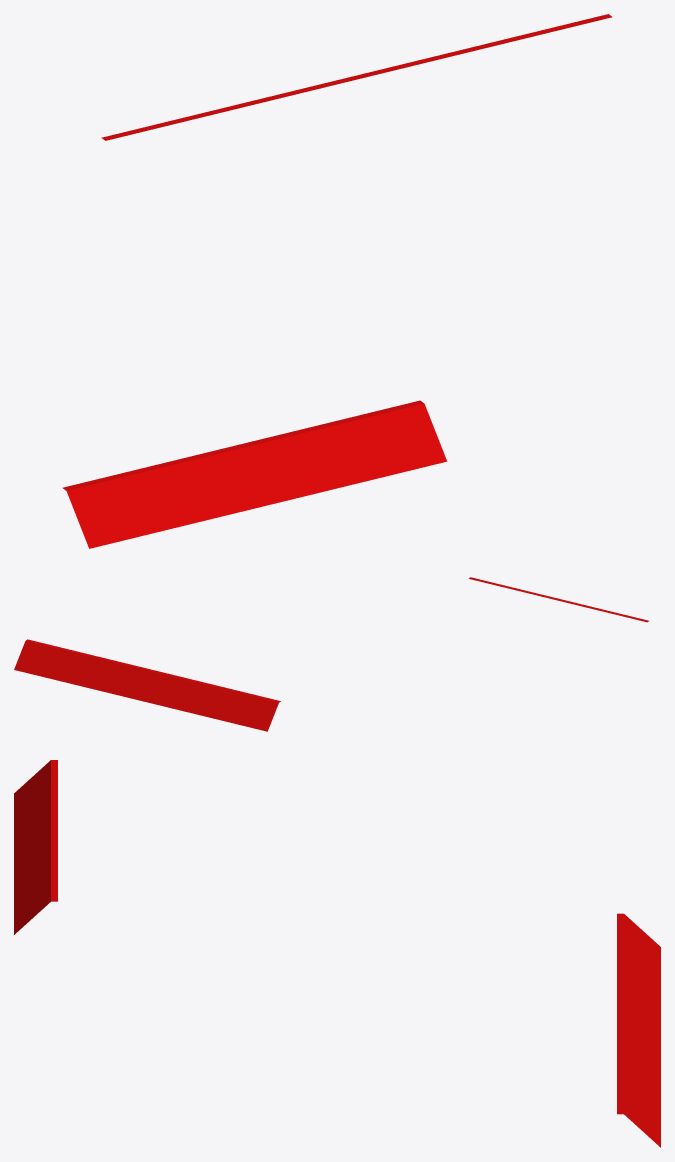
Rendered from transition_2.stair_collision.glb.
3 renders of one model, top to bottom at view 1: azimuth 30°, elevation 25°; view 2: azimuth 150°, elevation 25°; view 3: azimuth 270°, elevation 25°, orthographic. The views are drawn at different scales.
Parts seen in each view (by area): view 1: CastleStairs_Collision, ForestStairs_Collision; view 2: ForestStairs_Collision, CastleStairs_Collision; view 3: ForestStairs_Collision, CastleStairs_Collision.
Boxes of the visible parts, x1,y1,x2,y2 form: CastleStairs_Collision: [62, 400, 447, 548]; ForestStairs_Collision: [101, 14, 612, 140]; ForestStairs_Collision: [14, 639, 280, 731]; CastleStairs_Collision: [468, 577, 648, 622]; ForestStairs_Collision: [617, 913, 660, 1147]; CastleStairs_Collision: [14, 760, 57, 934].
Bounding box in the file's own units: 30 × 1.32 × 23.14.
